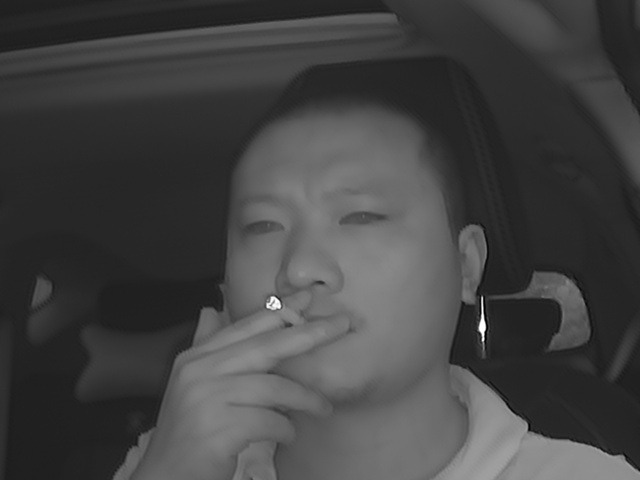hand: (200, 285, 355, 450)
